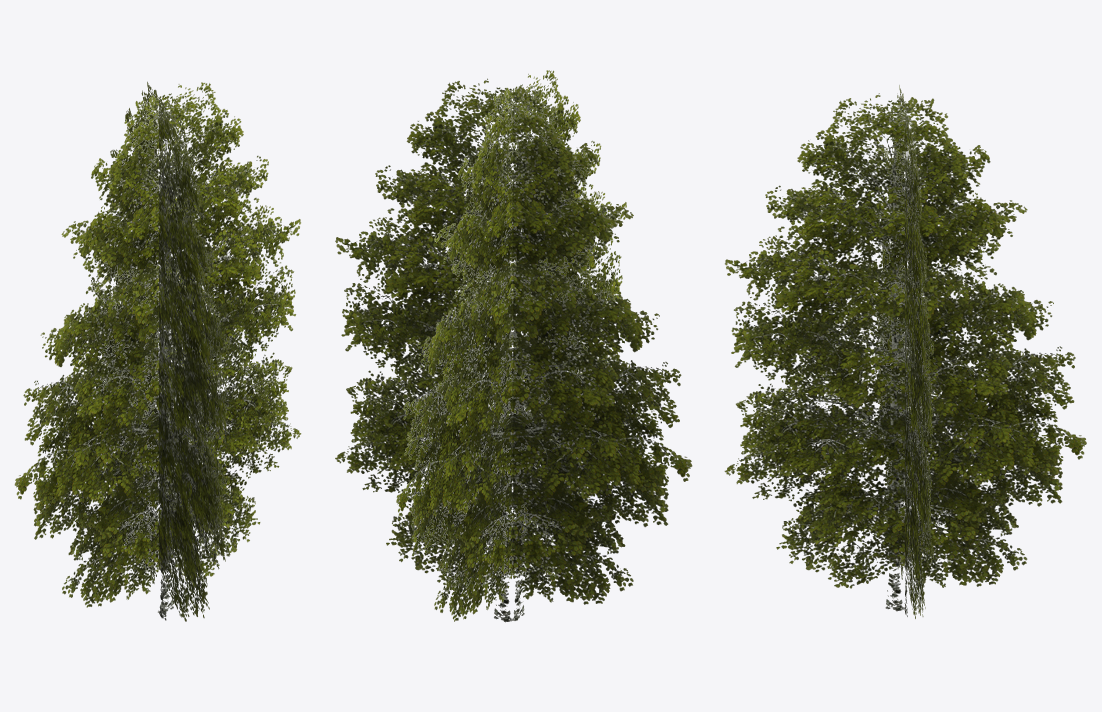
Rendered from tree2.FBX.
3 renders of one model, left to right at view 1: azimuth 30°, elevation 25°; view 2: azimuth 150°, elevation 25°; view 3: azimuth 270°, elevation 25°, orthographic. The views are drawn at different scales.
Visible parts, largest first — view 1: tree2; view 2: tree2; view 3: tree2.
Part boxes in pixels (box(x1,y1,x2,y2)): tree2: box(14, 81, 301, 621); tree2: box(335, 70, 692, 622); tree2: box(724, 85, 1086, 618).
Size of the model in its own units: 462 by 742 by 464.
